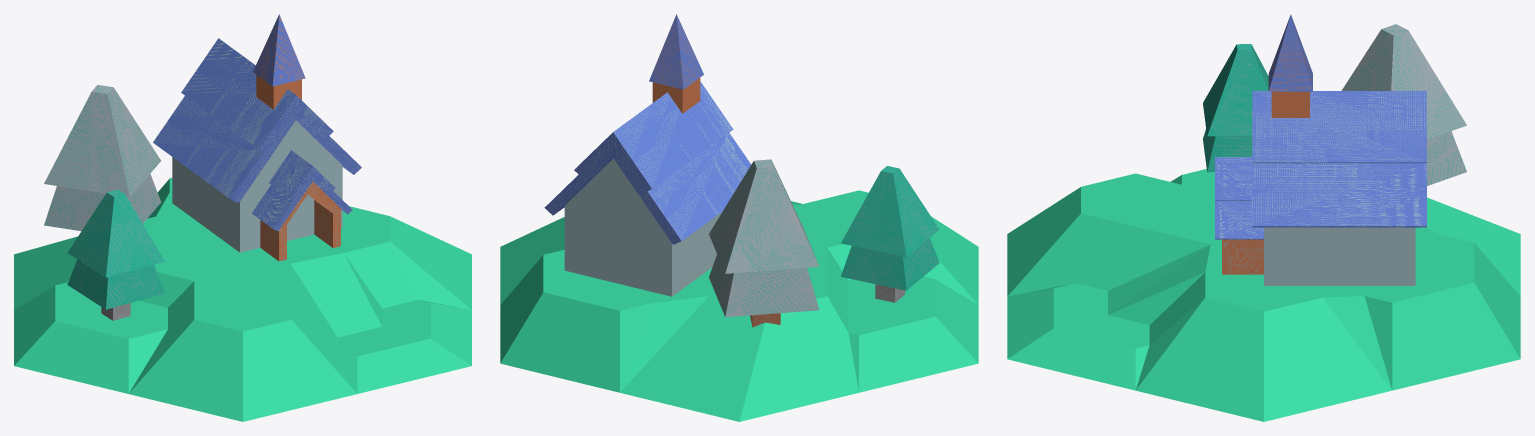
File: Chapel.fbx
3 views of the same model, side by side, from view 1: azimuth 30°, elevation 25°; view 2: azimuth 150°, elevation 25°; view 3: azimuth 270°, elevation 25° (orthographic). The views are drawn at different scales.
Visible parts, largest first — view 1: Model, Group3, Group2, Group1; view 2: Model, Group3, Group2, Group1; view 3: Model, Group3, Group2, Group1.
Part boxes in pixels (x1,y1,x2,y2): Model: (14, 178, 471, 421); Group3: (153, 14, 361, 261); Group2: (44, 85, 161, 231); Group1: (67, 189, 164, 320); Model: (500, 190, 978, 421); Group3: (544, 14, 751, 296); Group2: (709, 159, 819, 327); Group1: (841, 166, 939, 302); Model: (1007, 169, 1520, 421); Group3: (1215, 14, 1426, 285); Group2: (1341, 24, 1466, 185); Group1: (1203, 44, 1268, 172).
Size of the model in its own units: 1.15 by 0.6644 by 1.
